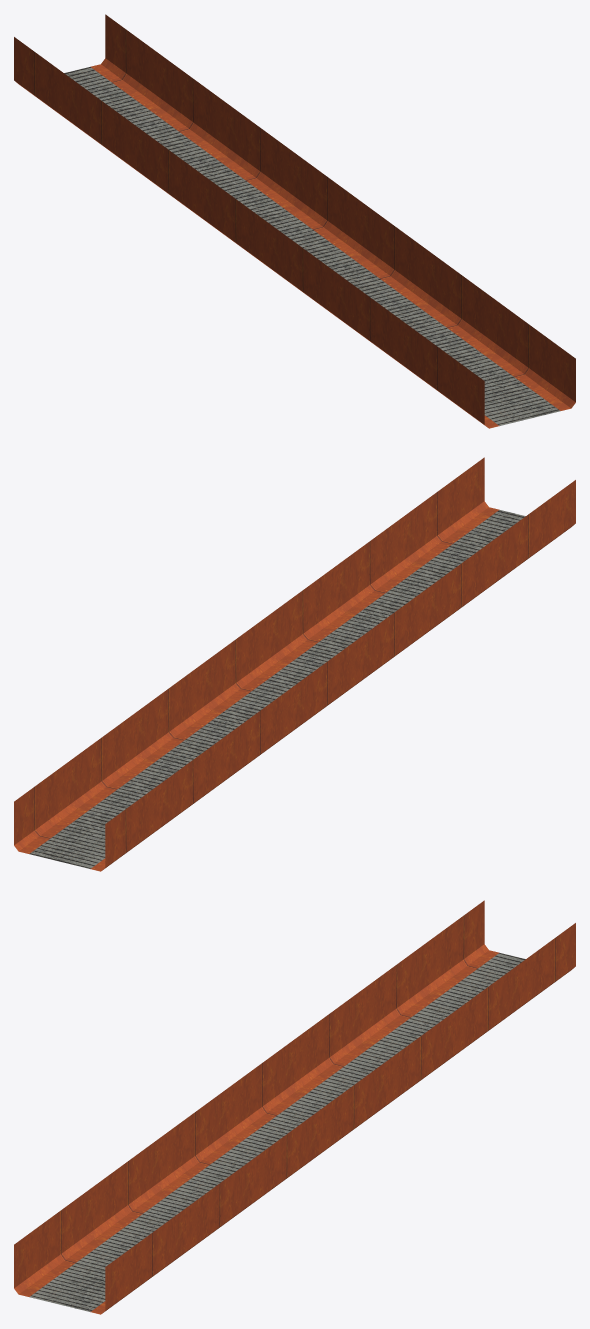
File: Ob_WallSupport2_RC.fbx
3 renders of one model, top to bottom at view 1: azimuth 30°, elevation 25°; view 2: azimuth 150°, elevation 25°; view 3: azimuth 330°, elevation 25°, orthographic.
Parts seen in each view (by area): view 1: Ob_CeilingDetail_RC; view 2: Ob_CeilingDetail_RC; view 3: Ob_CeilingDetail_RC.
Boxes of the visible parts, box(x1,y1,x2,y2) form: Ob_CeilingDetail_RC: box(14, 14, 575, 428); Ob_CeilingDetail_RC: box(14, 457, 575, 871); Ob_CeilingDetail_RC: box(14, 900, 575, 1314).
Bounding box in the file's own units: 612 × 312 × 5455.
